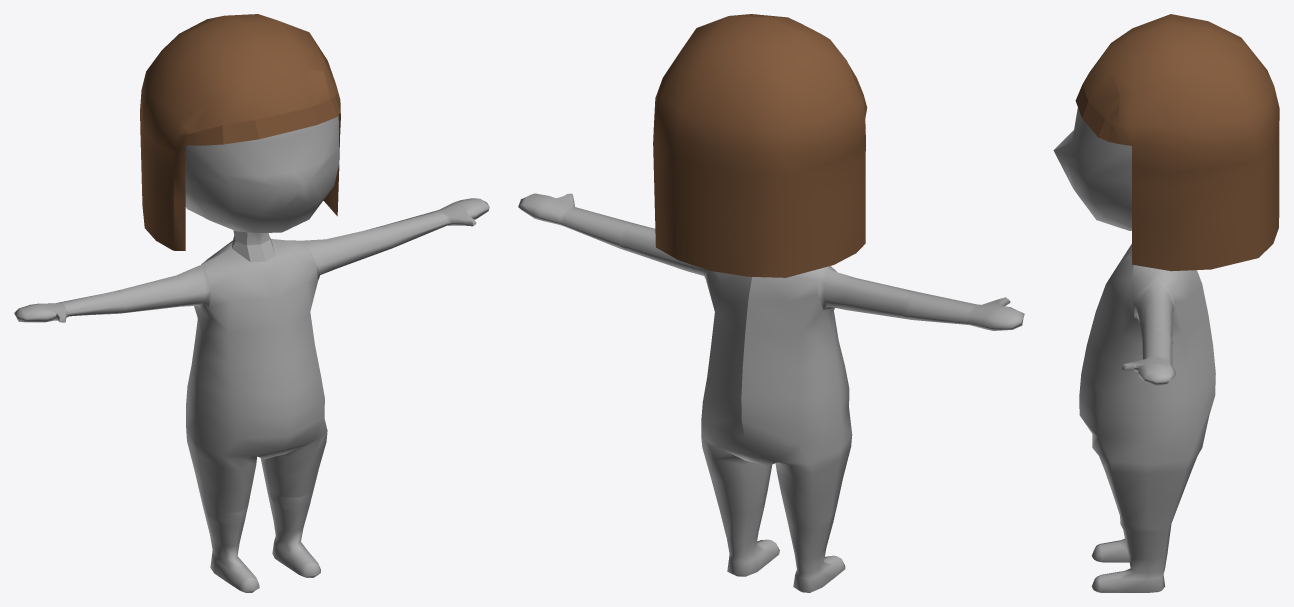
The model's file is f-straight bang and hair.fbx.
The picture shows the model from 3 angles, left to right: view 1: azimuth 30°, elevation 25°; view 2: azimuth 150°, elevation 25°; view 3: azimuth 270°, elevation 25°; orthographic projection. The views are drawn at different scales.
Parts seen in each view (by area): view 1: polySurface12, f_hairstyle_side_bang_chin1; view 2: f_hairstyle_side_bang_chin1, polySurface12; view 3: f_hairstyle_side_bang_chin1, polySurface12.
Boxes of the visible parts, x1,y1,x2,y2 form: polySurface12: [14, 115, 489, 592]; f_hairstyle_side_bang_chin1: [140, 14, 340, 250]; f_hairstyle_side_bang_chin1: [653, 14, 867, 277]; polySurface12: [518, 193, 1024, 592]; f_hairstyle_side_bang_chin1: [1075, 14, 1279, 271]; polySurface12: [1053, 108, 1215, 592].
Bounding box in the file's own units: 1.16 × 1.27 × 0.4719.
